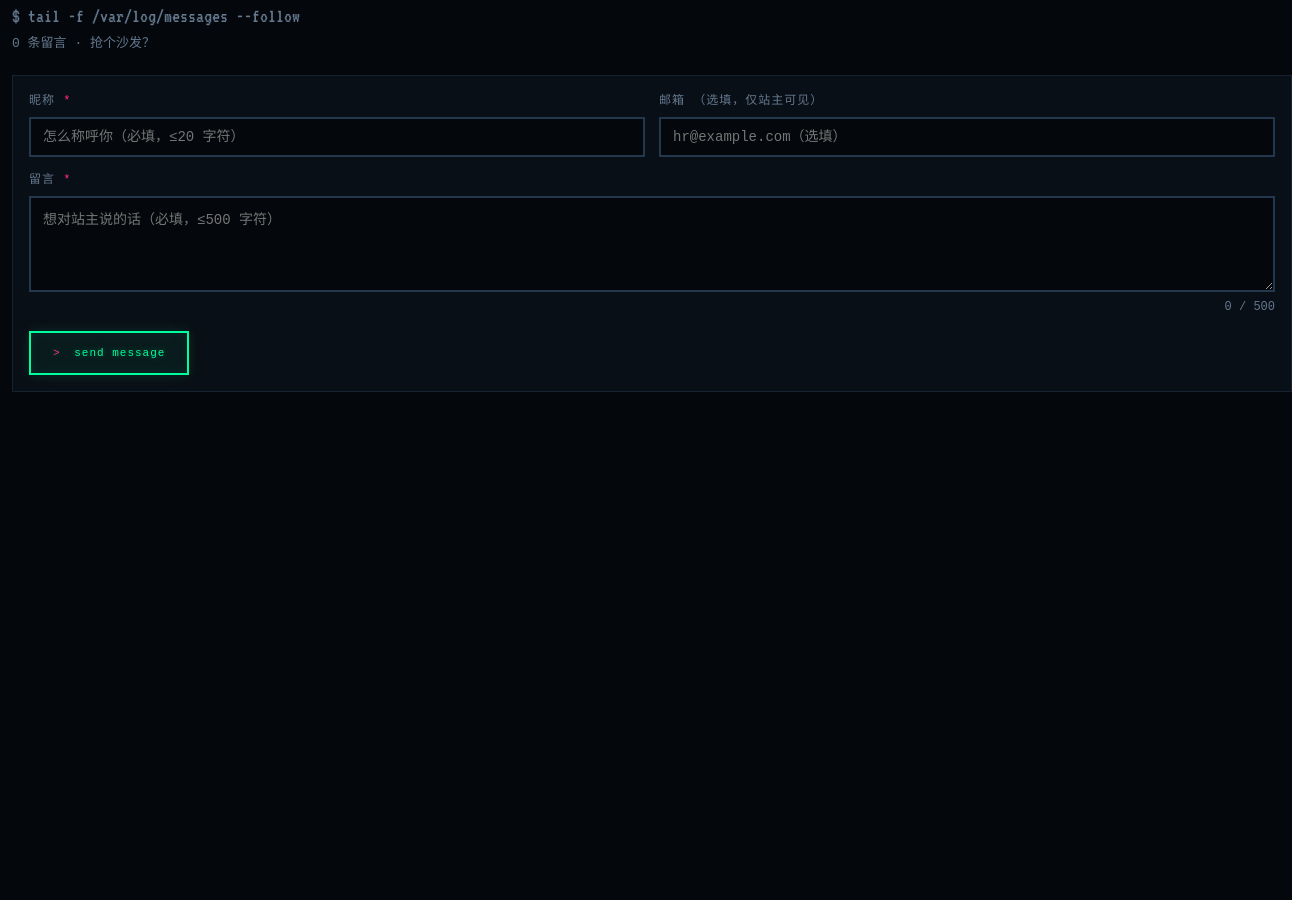
Test case: 提交失败 › 后端 400：toast 透出后端校验 message
Step 1. Type "访客" into the field named "nickname" → (337, 137), box [29,117,645,157]
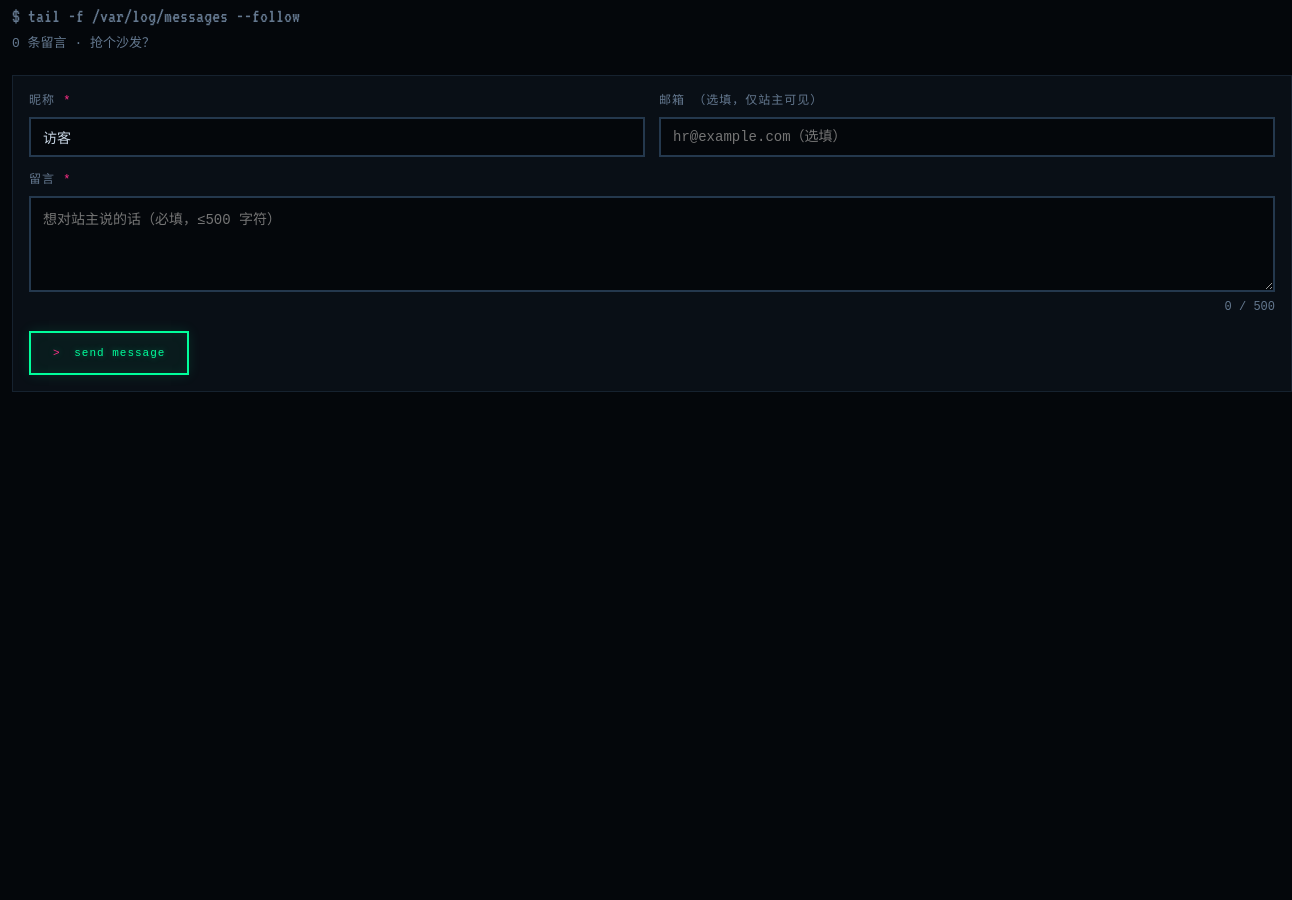
Step 2. Type "你好" into the text box named "content" → (652, 244), box [29,196,1275,292]
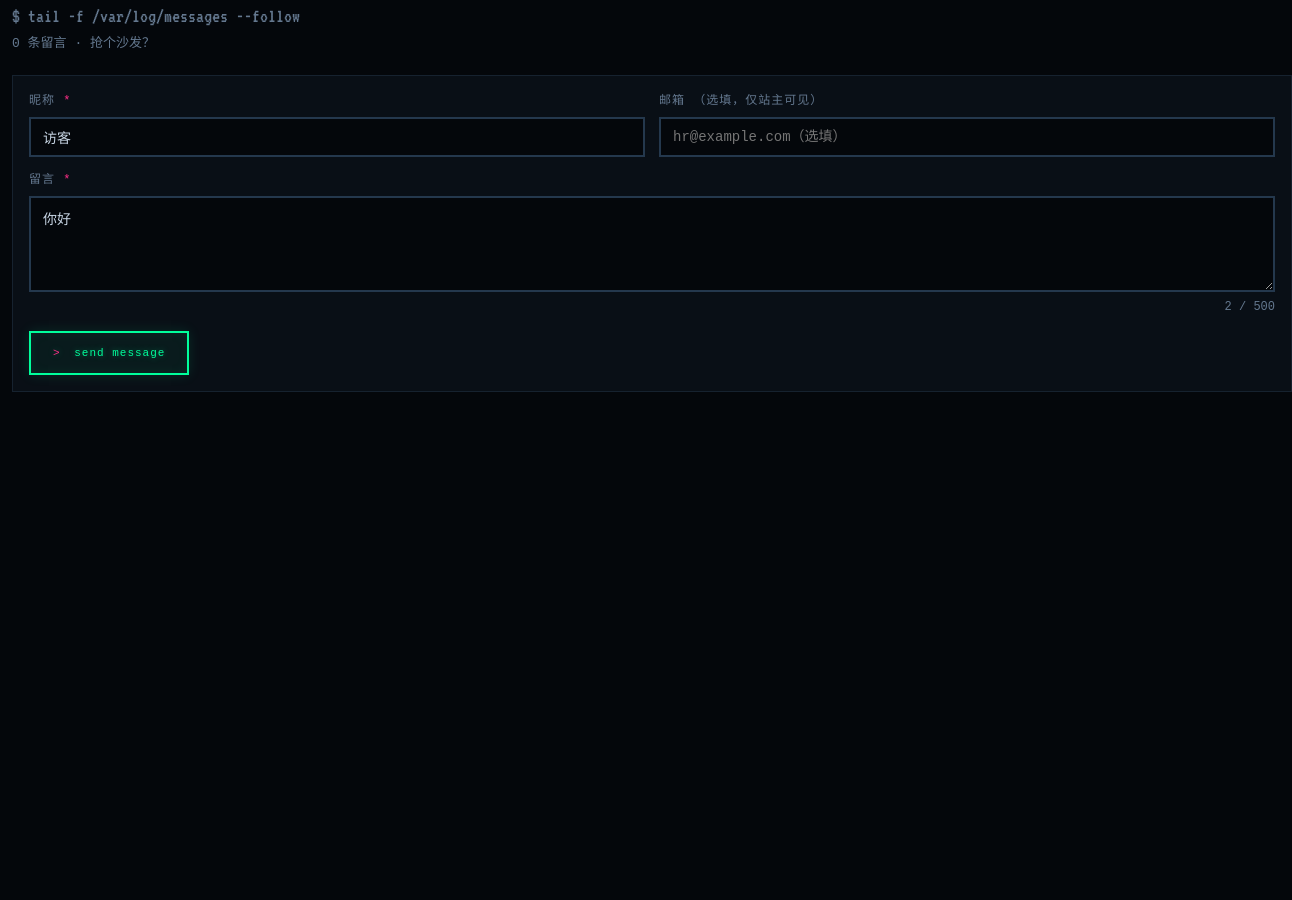
Step 3. Submit the form, box [12,75,1291,392]
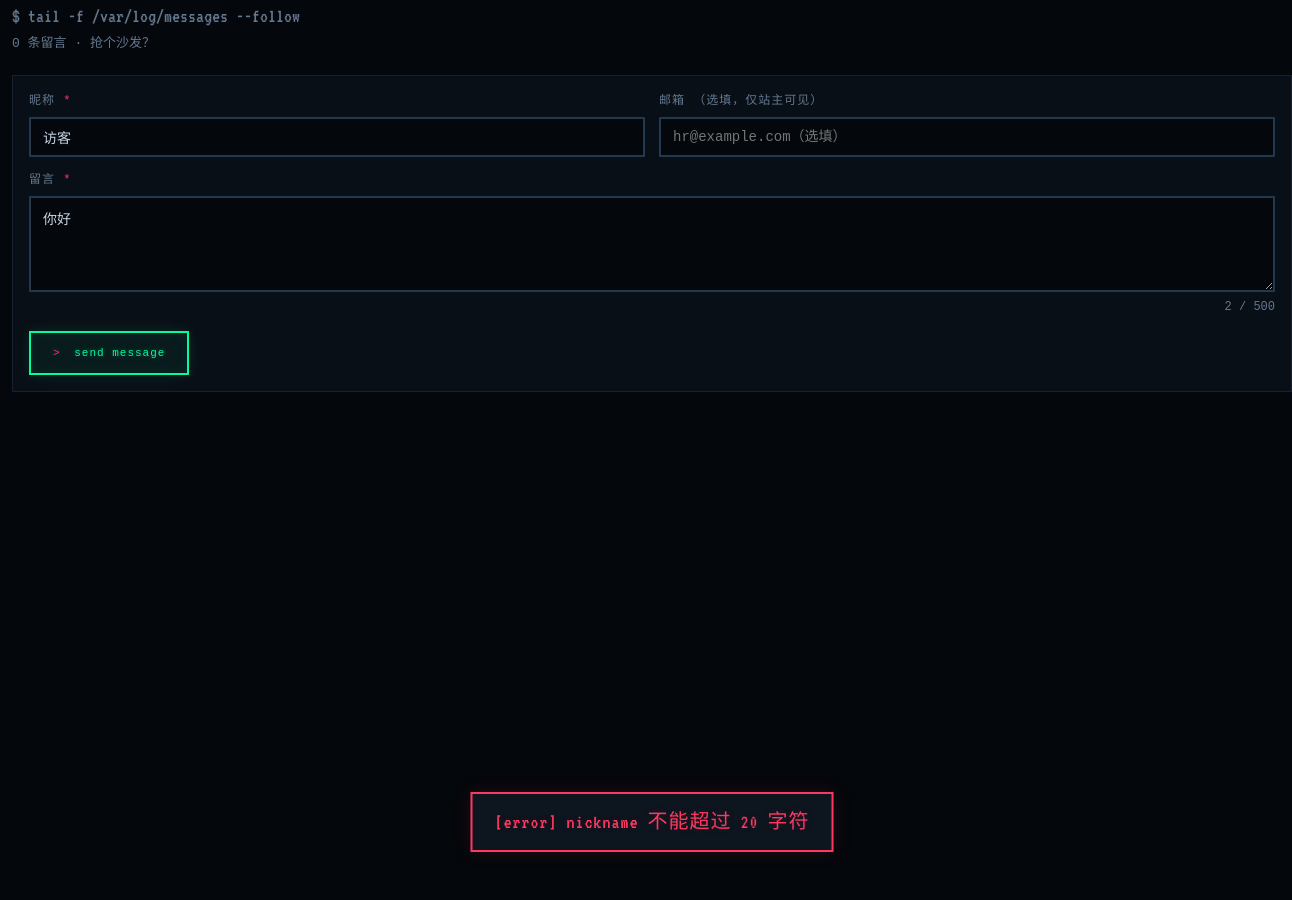
Check: the message with class "toast" shows "nickname 不能超过 20 字符", box [494,812,810,832]
